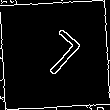L_SW: (27, 26, 83, 84)
